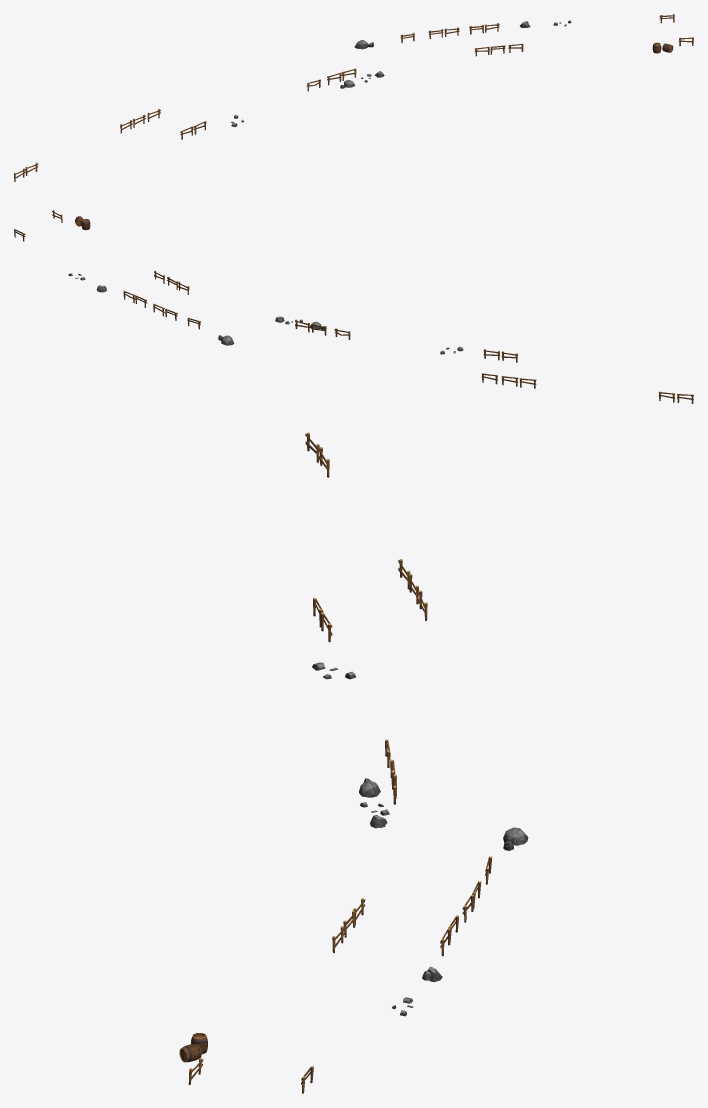
Rendered from wujian1_1.fbx.
3 views of the same model, one above another, from view 1: azimuth 30°, elevation 25°; view 2: azimuth 150°, elevation 25°; view 3: azimuth 270°, elevation 25° (orthographic). The views are drawn at different scales.
Visible parts, largest first — view 1: wujian1_1; view 2: wujian1_1; view 3: wujian1_1.
Part boxes in pixels (bbox=[...]): wujian1_1: bbox=[14, 14, 693, 181]; wujian1_1: bbox=[14, 210, 693, 403]; wujian1_1: bbox=[179, 432, 528, 1093].
Bounding box in the file's own units: 10019 × 139 × 2295.
